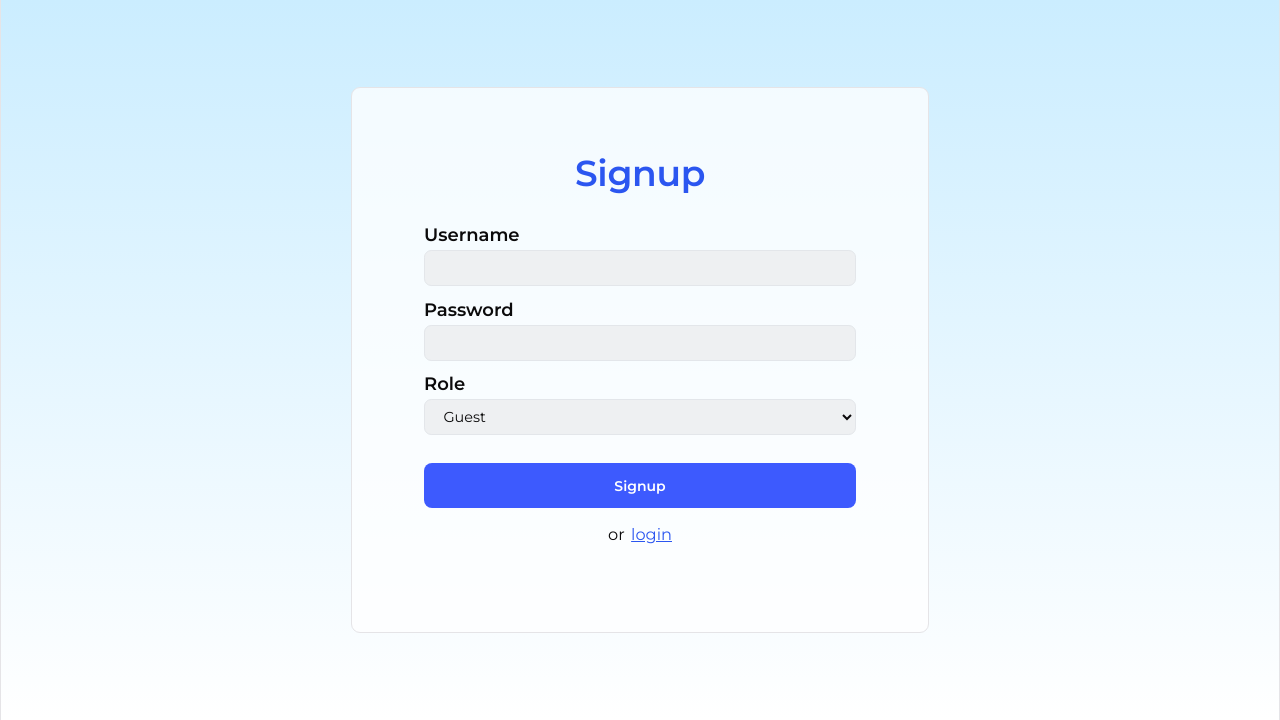
Test case: SignupPage › shows a validation error when submitted with empty fields
Step 1. Click the button "Signup" → (640, 486), box left=424, top=463, right=856, bottom=508
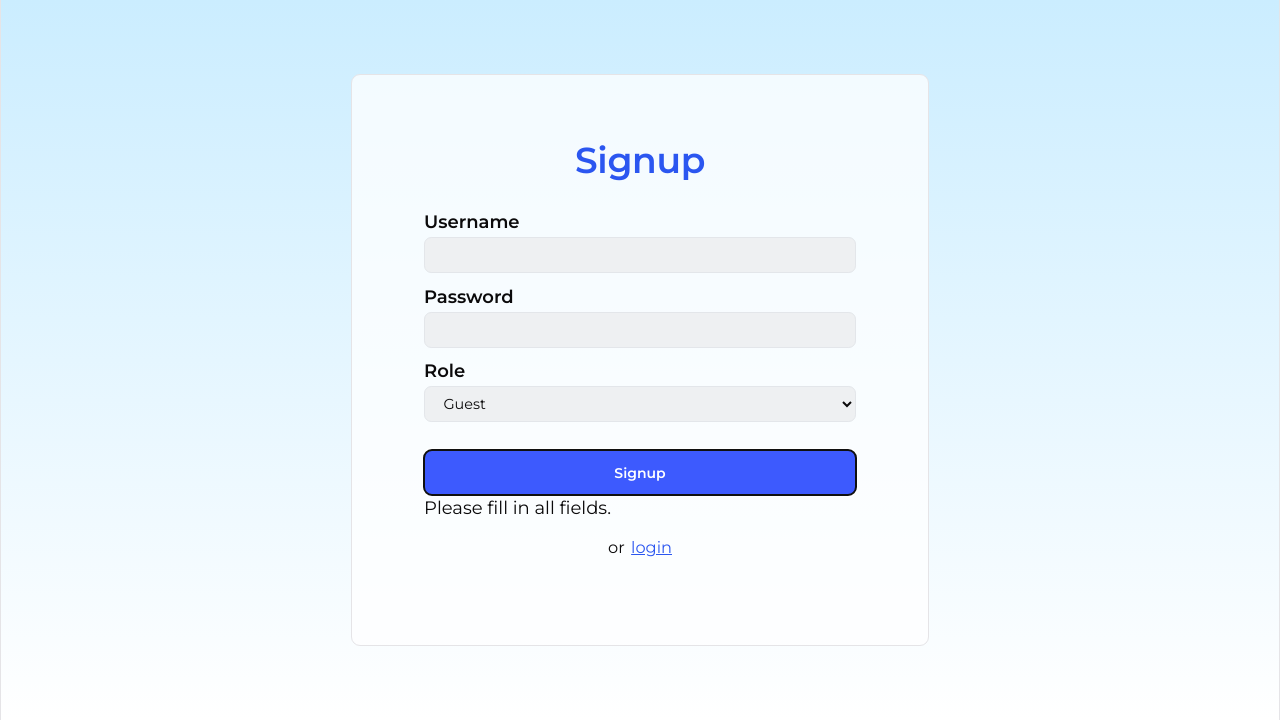
Expected: the text "Please fill in all fields." is shown, left=424, top=497, right=611, bottom=519
